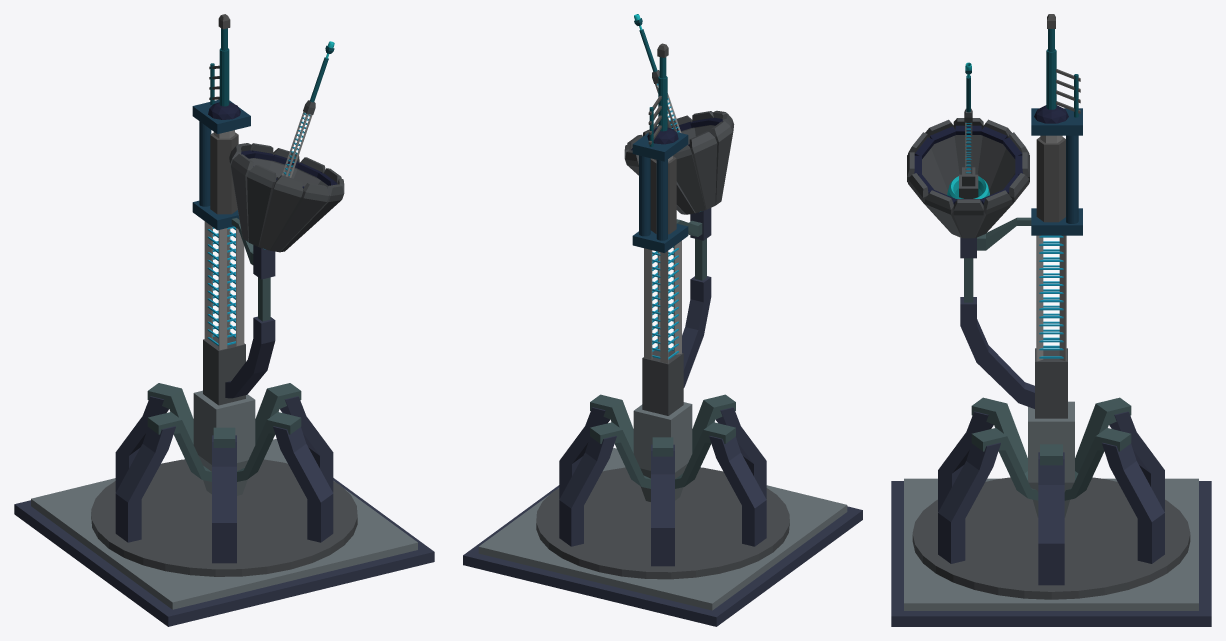
The model's file is Gerät Beschützen.fbx.
The picture shows the model from 3 angles, left to right: view 1: azimuth 30°, elevation 25°; view 2: azimuth 150°, elevation 25°; view 3: azimuth 270°, elevation 25°; orthographic projection. The views are drawn at different scales.
Visible parts, largest first — view 1: Cube.013; view 2: Cube.013; view 3: Cube.013.
Part boxes in pixels (<box>): Cube.013: <box>14,14,434,626</box>; Cube.013: <box>463,14,862,626</box>; Cube.013: <box>891,14,1211,626</box>.
Bounding box in the file's own units: 541 × 1015 × 541.
